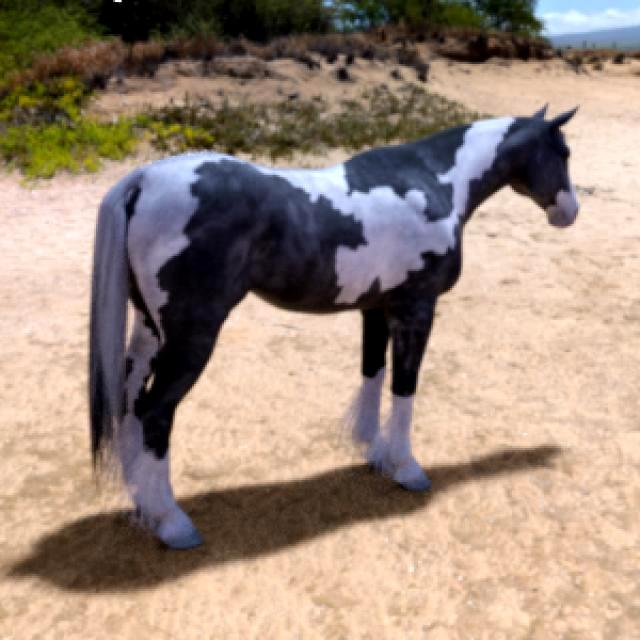horse: (92, 106, 579, 548)
